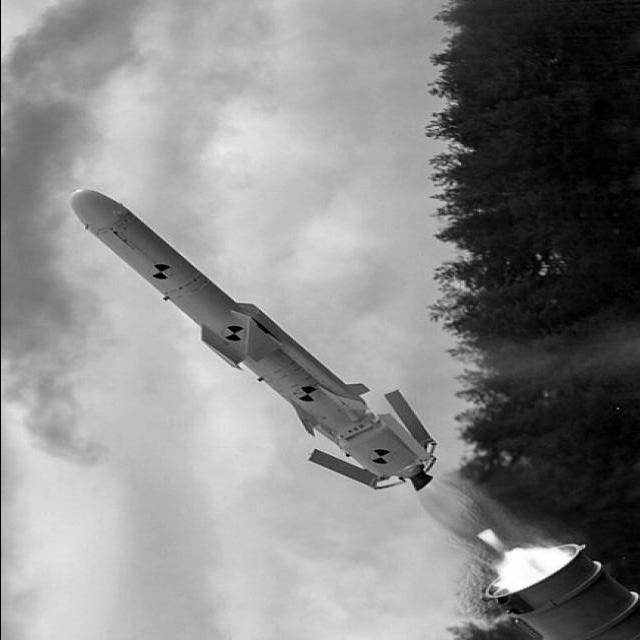missile: (46, 176, 439, 492)
